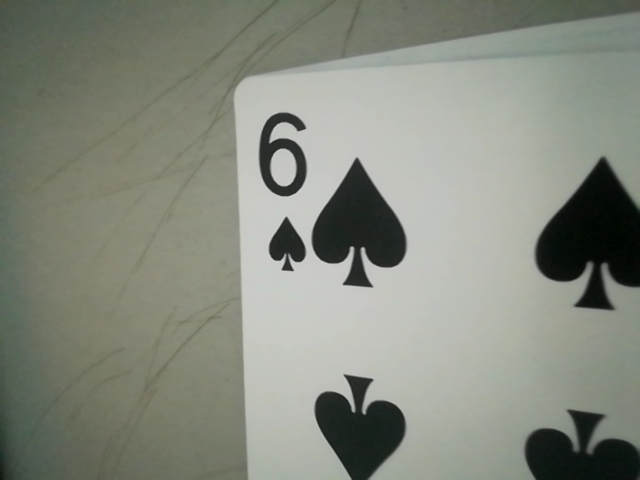ht 6: (246, 92, 324, 274)
